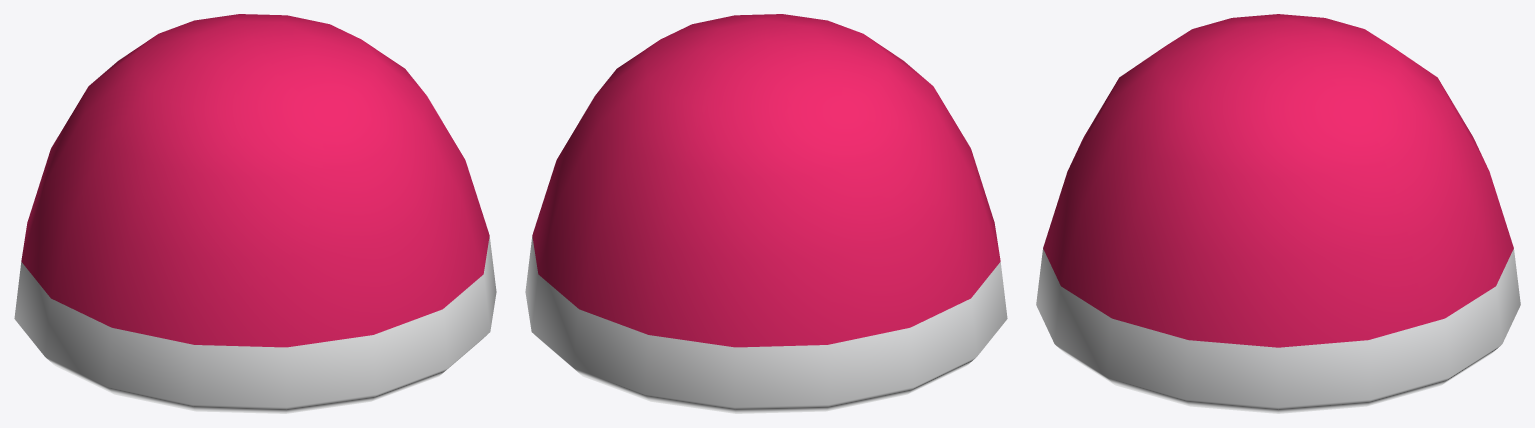
The model's file is candy_004.glb.
3 renders of one model, left to right at view 1: azimuth 30°, elevation 25°; view 2: azimuth 150°, elevation 25°; view 3: azimuth 270°, elevation 25°, orthographic.
Parts seen in each view (by area): view 1: candy_004; view 2: candy_004; view 3: candy_004.
Part boxes in pixels (box(x1,y1,x2,y2)): candy_004: box(14, 14, 496, 413); candy_004: box(525, 14, 1007, 413); candy_004: box(1036, 14, 1520, 413).
Bounding box in the file's own units: 2.04 × 1.28 × 2.04.
Materials: 1 (1 with a texture image).
